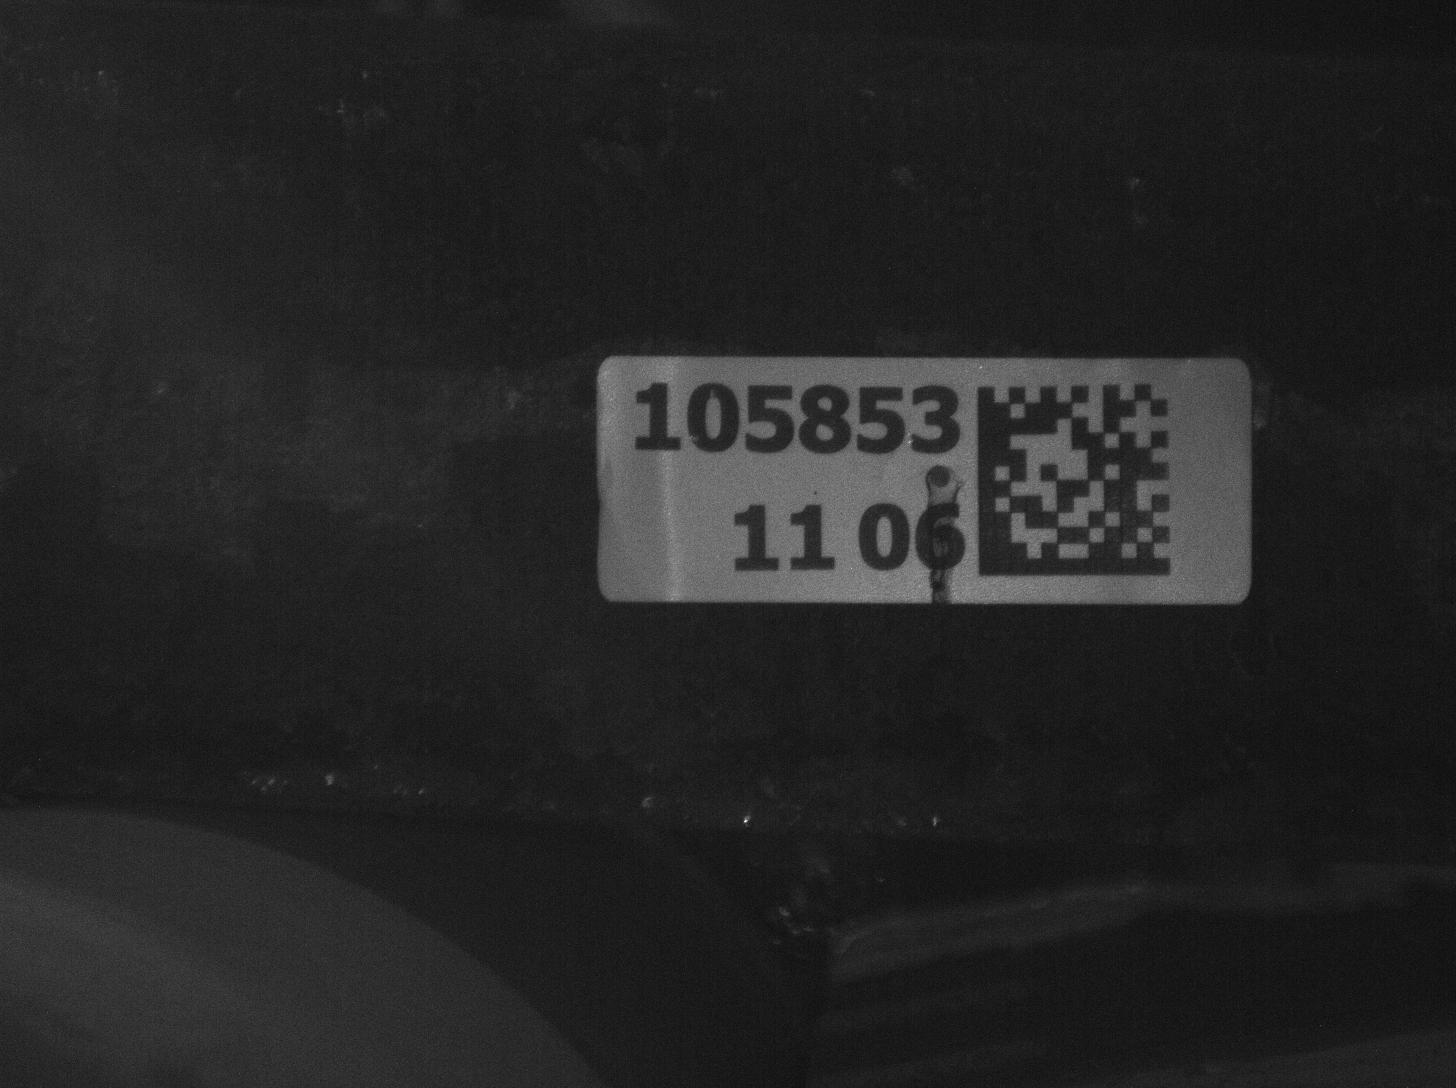data matrix: (968, 373, 1184, 594)
